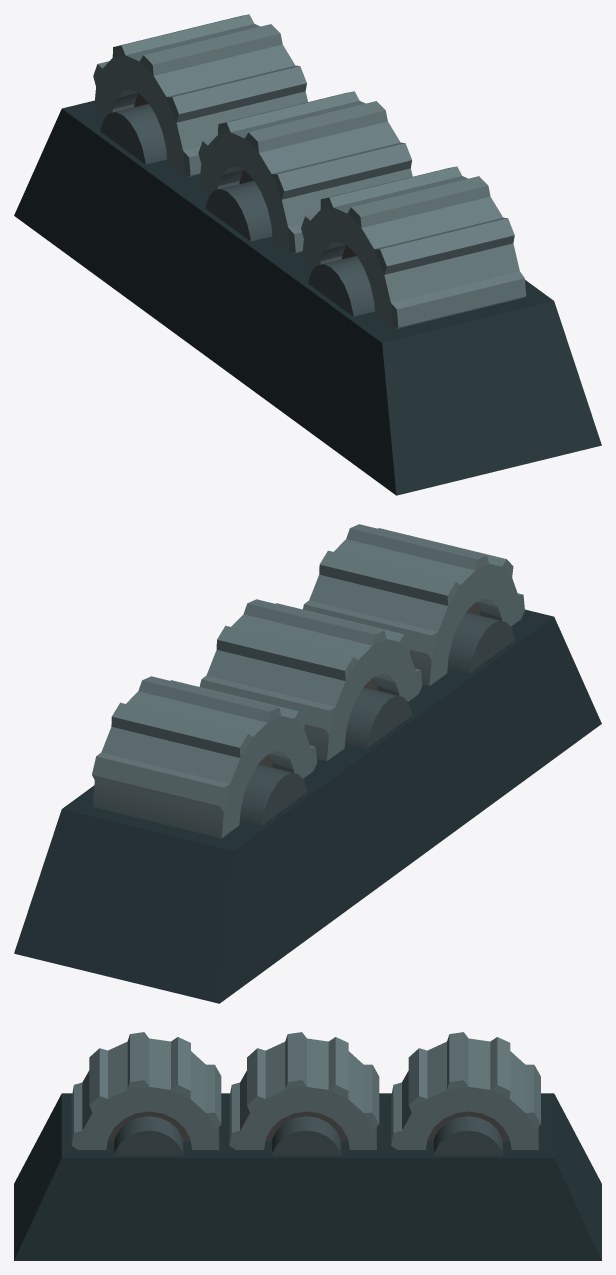
File: SM_Gears.fbx
The picture shows the model from 3 angles, top to bottom: view 1: azimuth 30°, elevation 25°; view 2: azimuth 150°, elevation 25°; view 3: azimuth 270°, elevation 25°; orthographic projection. The views are drawn at different scales.
Parts seen in each view (by area): view 1: SM_Gears; view 2: SM_Gears; view 3: SM_Gears.
Boxes of the visible parts, x1,y1,x2,y2 form: SM_Gears: (14, 14, 601, 495); SM_Gears: (14, 524, 601, 1003); SM_Gears: (14, 1032, 601, 1260).
Size of the model in its own units: 166 by 168 by 536.
Materials: 1 (1 with a texture image).
